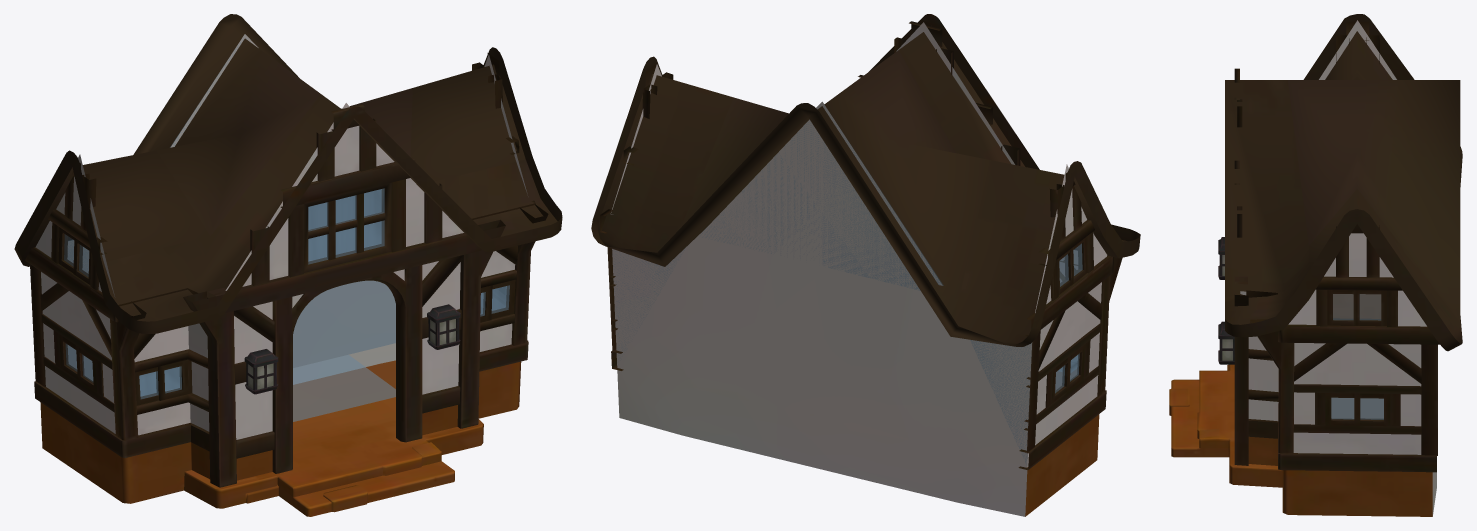
File: wall-pa04-woodframe.glb
The picture shows the model from 3 angles, left to right: view 1: azimuth 30°, elevation 25°; view 2: azimuth 150°, elevation 25°; view 3: azimuth 270°, elevation 25°; orthographic projection. The views are drawn at different scales.
Size of the model in its own units: 48.63 by 39.51 by 29.5.
Materials: 7 (3 with a texture image).
